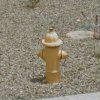Hydrant: (33, 24, 70, 91)
